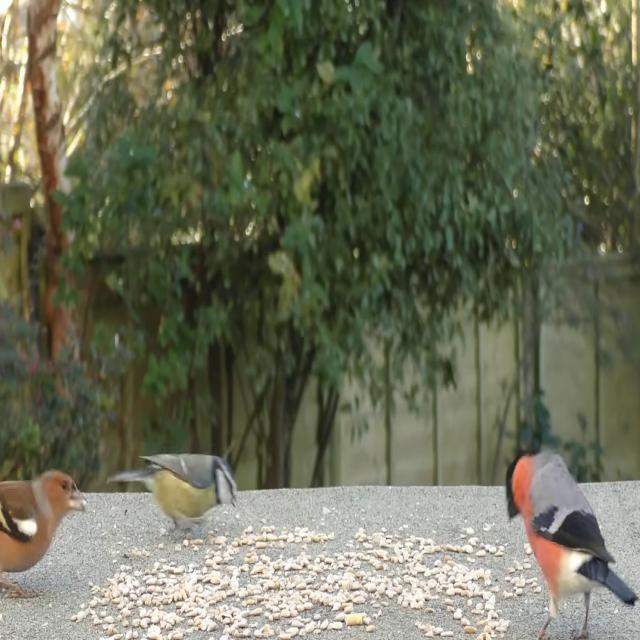beak: (67, 478, 87, 514), (504, 498, 516, 524), (230, 490, 240, 510)
bird: (501, 437, 640, 640), (108, 435, 240, 547), (0, 460, 88, 599)
